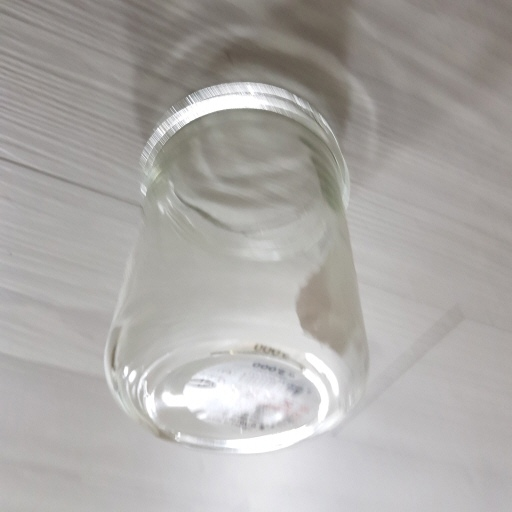Glass_5: (104, 88, 367, 450)
